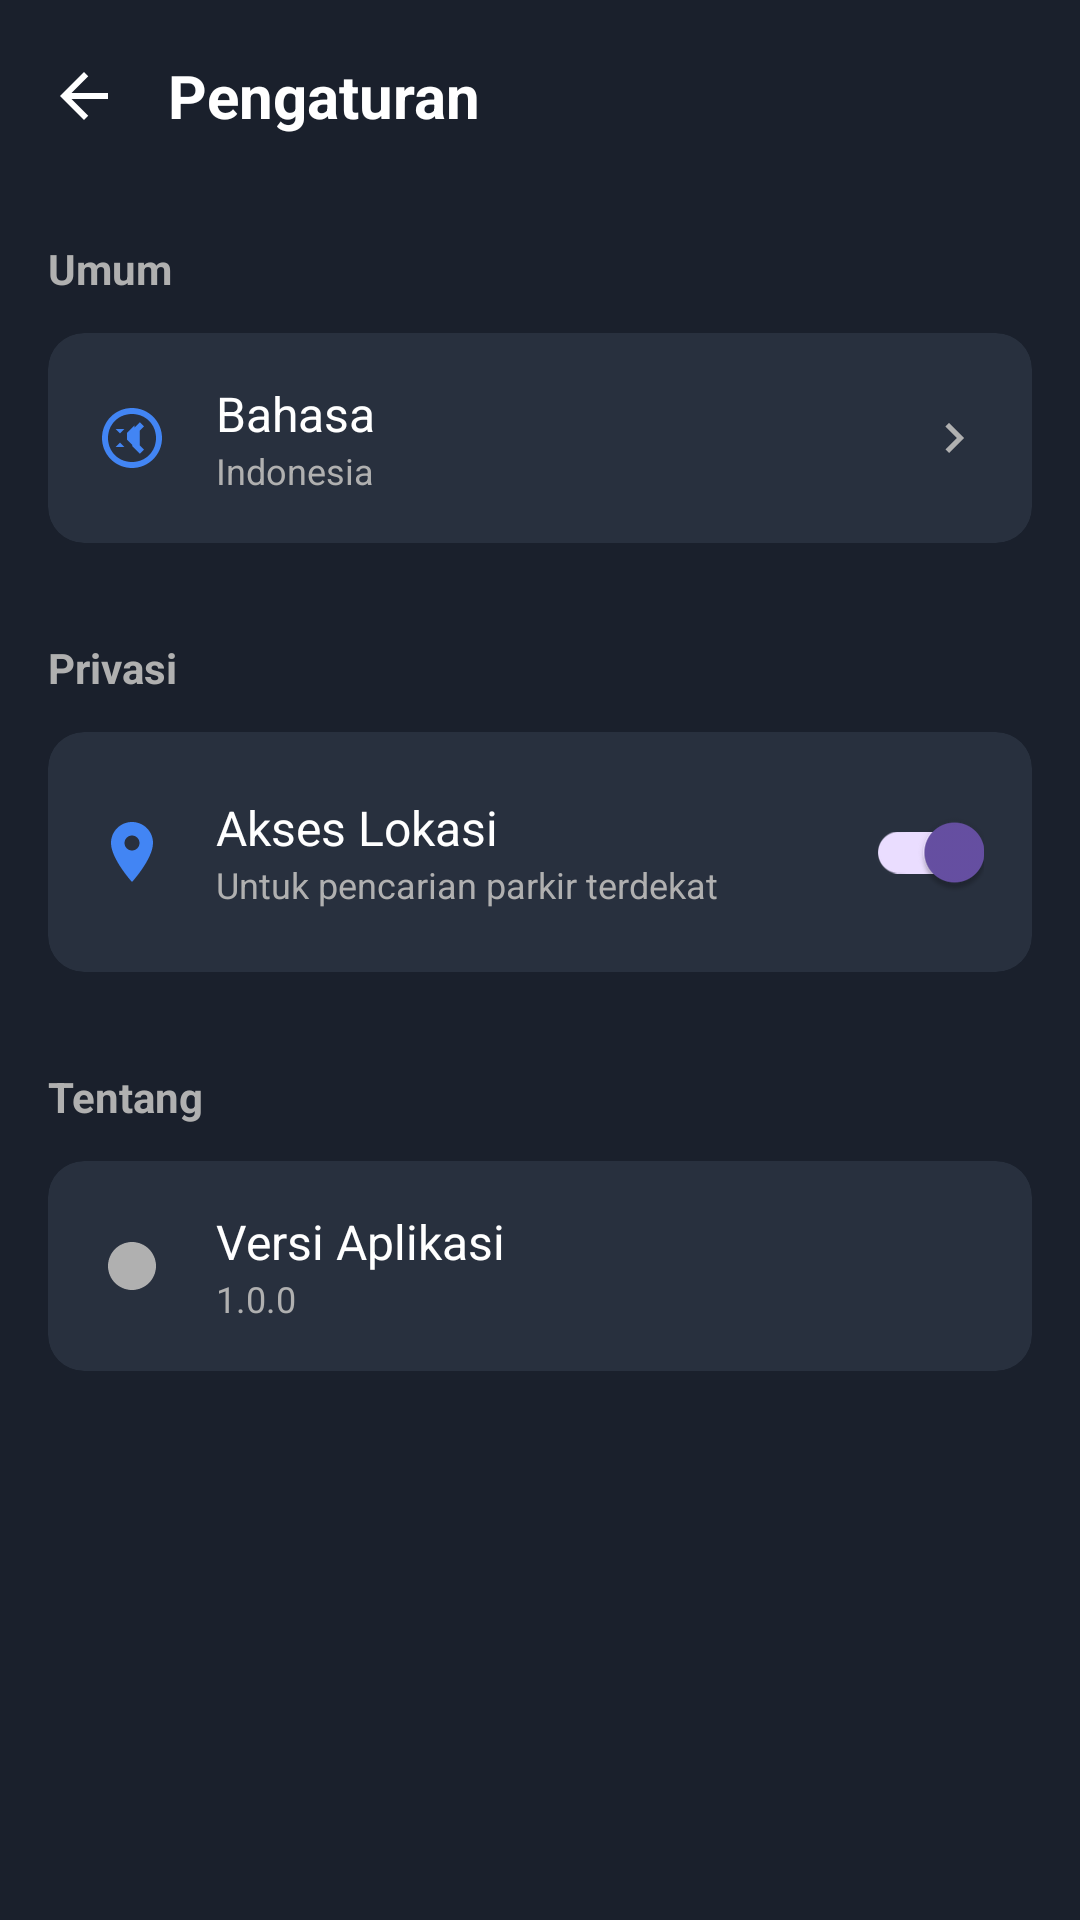

Named icons in this screenshot (1080w x 1920h) and their bounding boxes, [left=x1, top=y1, right=x2, bottom=y2]:
arrow back: [left=60, top=72, right=108, bottom=120]
arrow right: [left=945, top=423, right=964, bottom=453]
location: [left=111, top=822, right=153, bottom=882]
